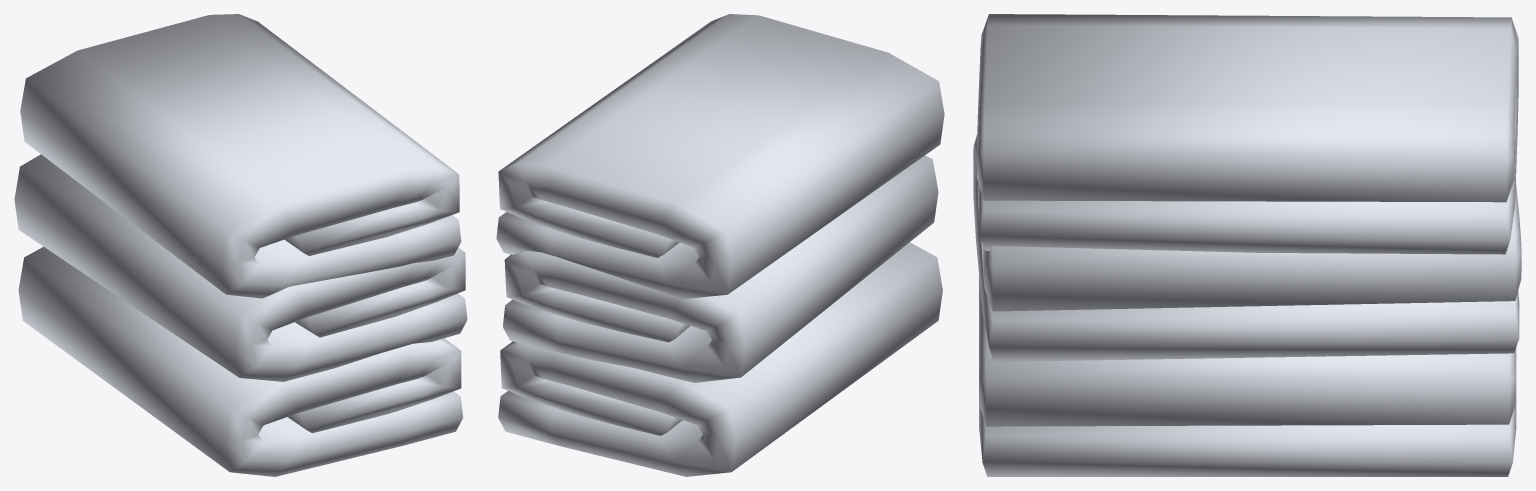
The model's file is 23_khantam.fbx.
The picture shows the model from 3 angles, left to right: view 1: azimuth 30°, elevation 25°; view 2: azimuth 150°, elevation 25°; view 3: azimuth 270°, elevation 25°; orthographic projection. The views are drawn at different scales.
Parts seen in each view (by area): view 1: khantam; view 2: khantam; view 3: khantam.
Boxes of the visible parts, x1=… form: khantam: x1=14, y1=14, x2=467, y2=476; khantam: x1=496, y1=14, x2=944, y2=476; khantam: x1=973, y1=14, x2=1521, y2=476.
Size of the model in its own units: 46.97 by 49.66 by 70.69.
